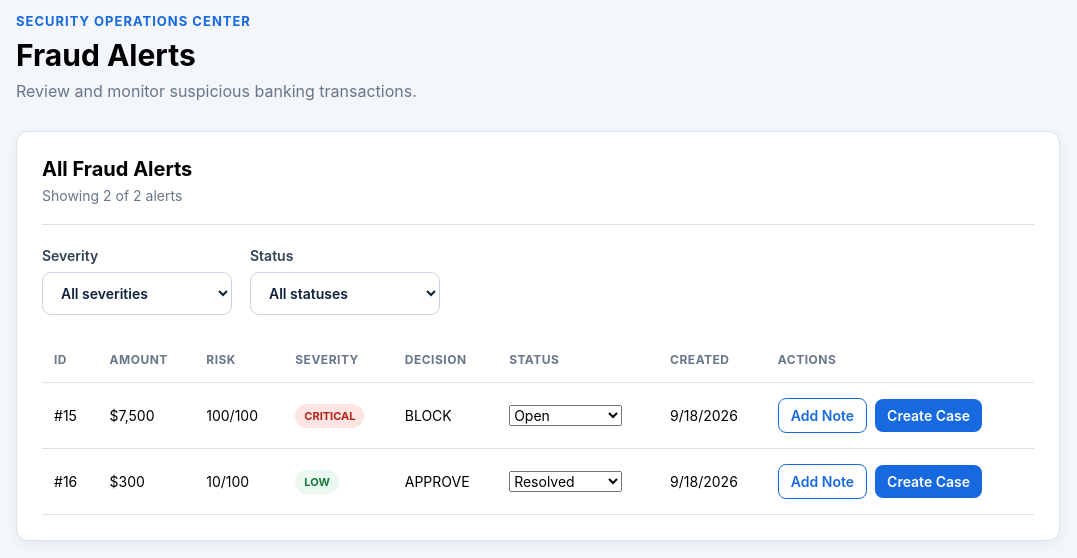
it: FraudAlertsPage › filters alerts by severity
The image size is (1077, 558).
Check: the text "#15" is shown, box 42,382 -> 98,448
Select "Low" in the dropdown labelled "Severity" at (137, 294), box 42,272 -> 232,315
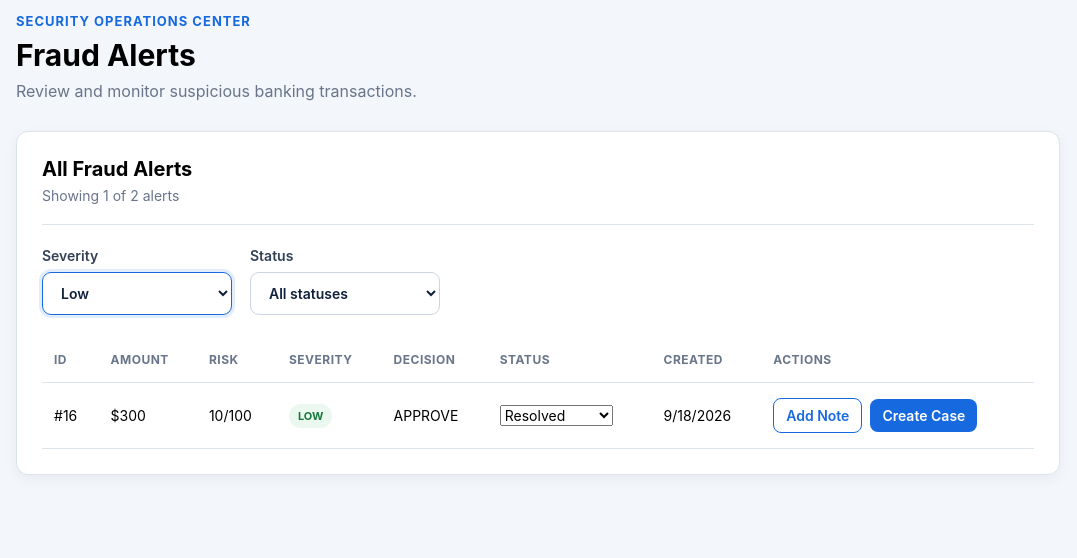
Check: the text "#16" is shown, box 42,382 -> 98,448
Check: the text "#15" is gone
Check: the text "Showing 1 of 2 alerts" is shown, box 42,187 -> 192,204
